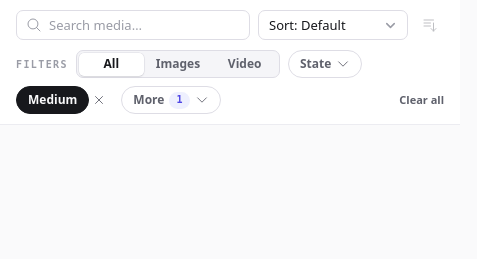
Test case: FilterToolbar Component › seeds initial filters from initialFilters (page-type default)
Click the button "More 1" at (171, 100), box [121, 86, 221, 114]
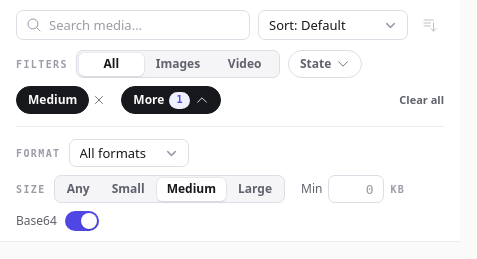
Result: the button "Medium" in the row of "Size" is shown at [157, 178, 226, 200]
